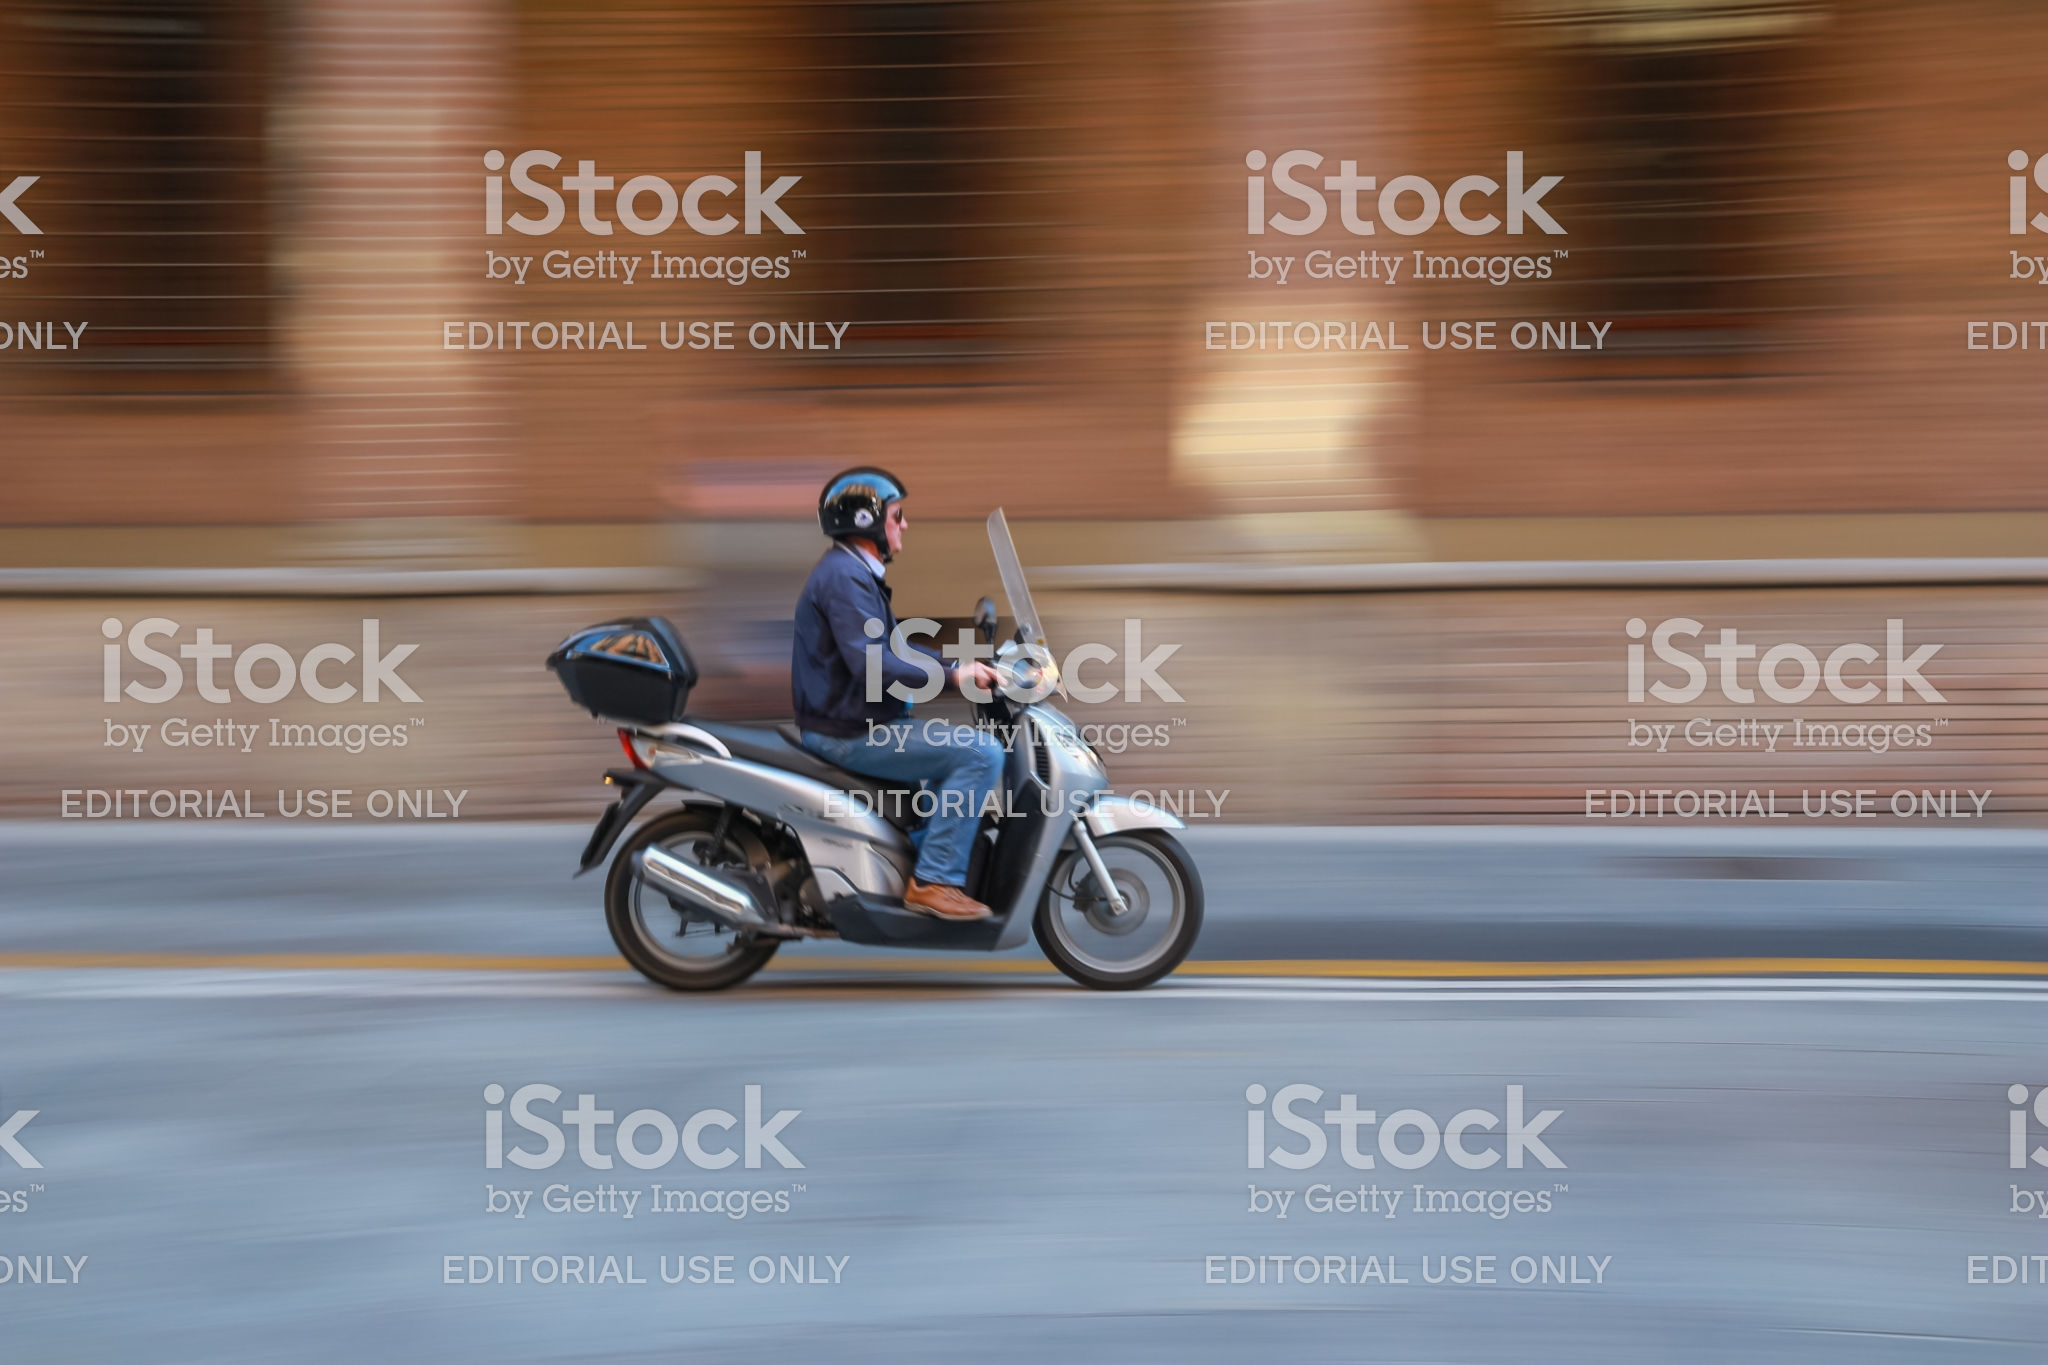helmet: (819, 462, 909, 551)
